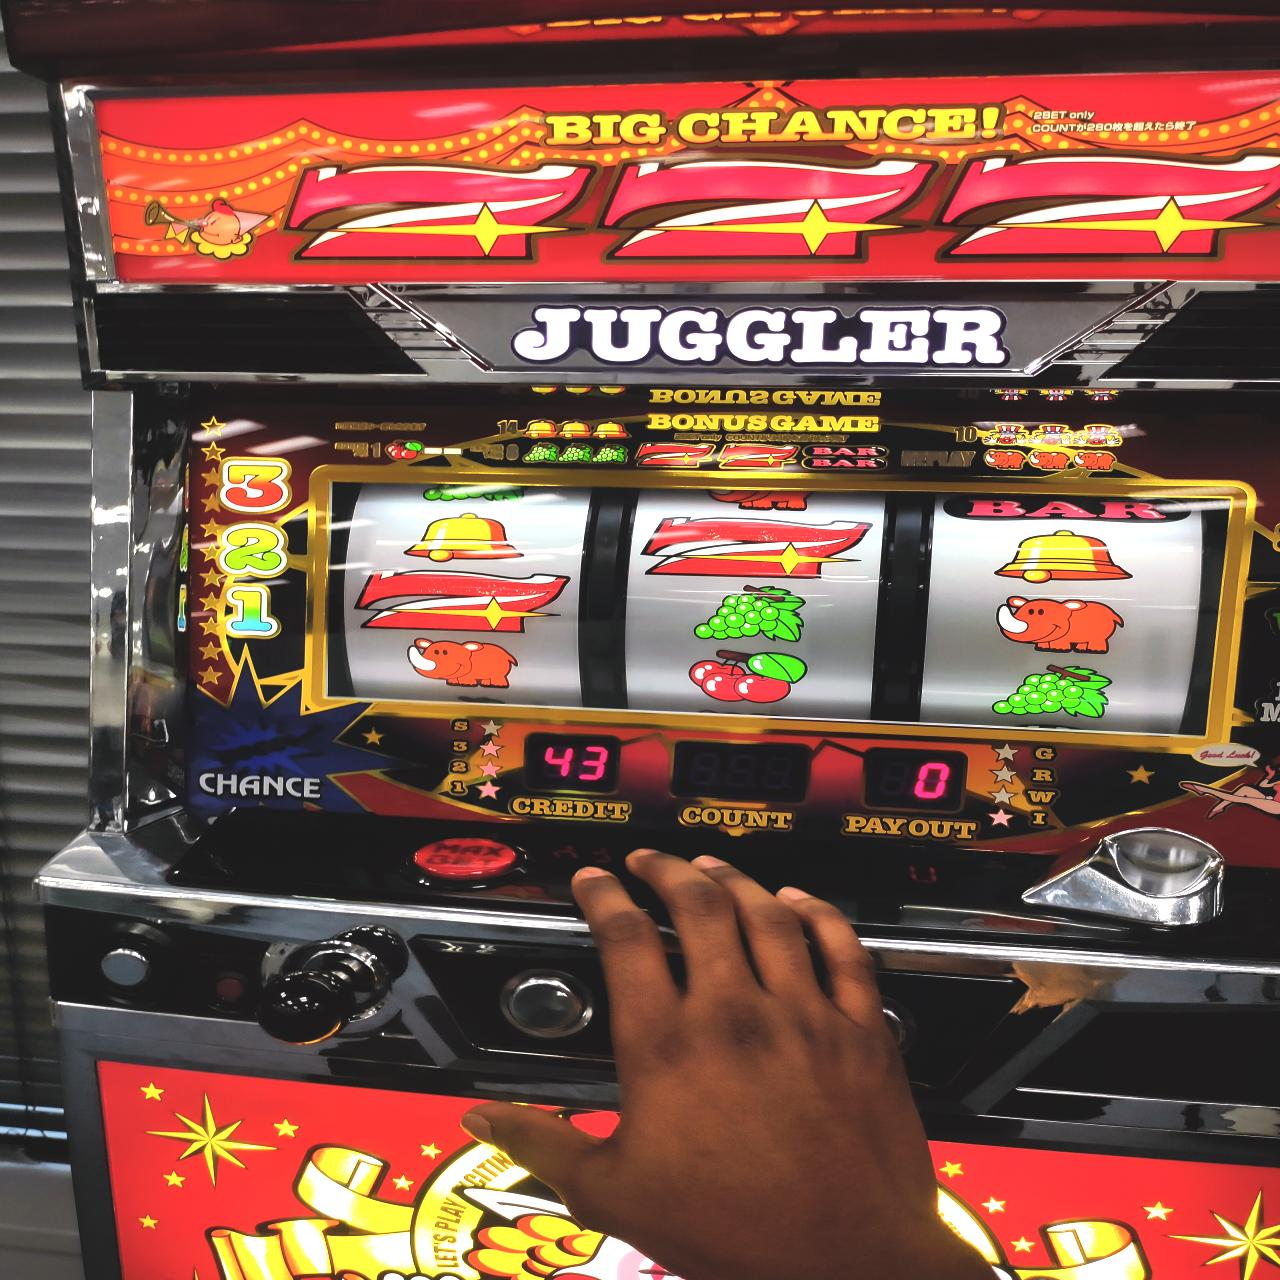7: (646, 517, 869, 581), (358, 574, 560, 635)
8: (995, 595, 1128, 652), (404, 639, 527, 688)
Display: (327, 482, 1242, 742)
bell: (1000, 529, 1133, 584), (407, 513, 525, 563)
cherry: (686, 647, 809, 701)
grape: (692, 584, 806, 642), (993, 662, 1112, 719)
